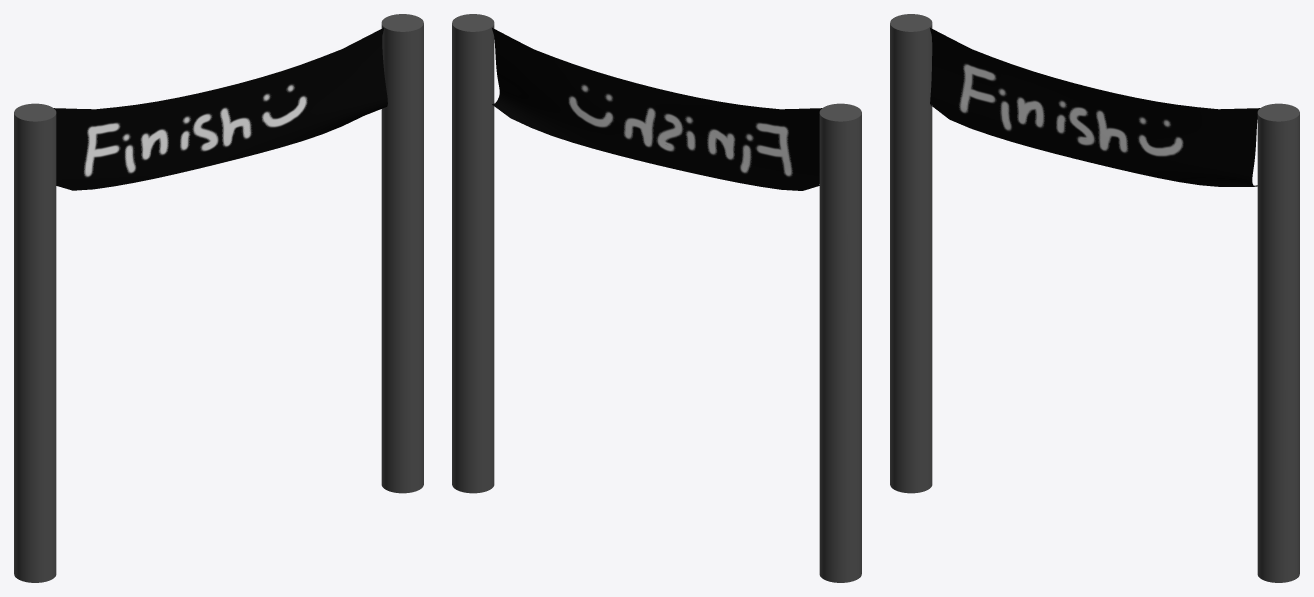
Rendered from goal.glb.
The picture shows the model from 3 angles, left to right: view 1: azimuth 30°, elevation 25°; view 2: azimuth 150°, elevation 25°; view 3: azimuth 330°, elevation 25°; orthographic projection.
Parts seen in each view (by area): view 1: Cylinder, Plane; view 2: Cylinder, Plane; view 3: Cylinder, Plane.
Boxes of the visible parts, x1=… form: Cylinder: x1=14, y1=14, x2=423, y2=582; Plane: x1=54, y1=28, x2=387, y2=190; Cylinder: x1=452, y1=14, x2=861, y2=582; Plane: x1=492, y1=28, x2=821, y2=190; Cylinder: x1=890, y1=14, x2=1299, y2=582; Plane: x1=930, y1=28, x2=1259, y2=186.
Bounding box in the file's own units: 22 × 24 × 2.
Materials: 2 (1 with a texture image).
